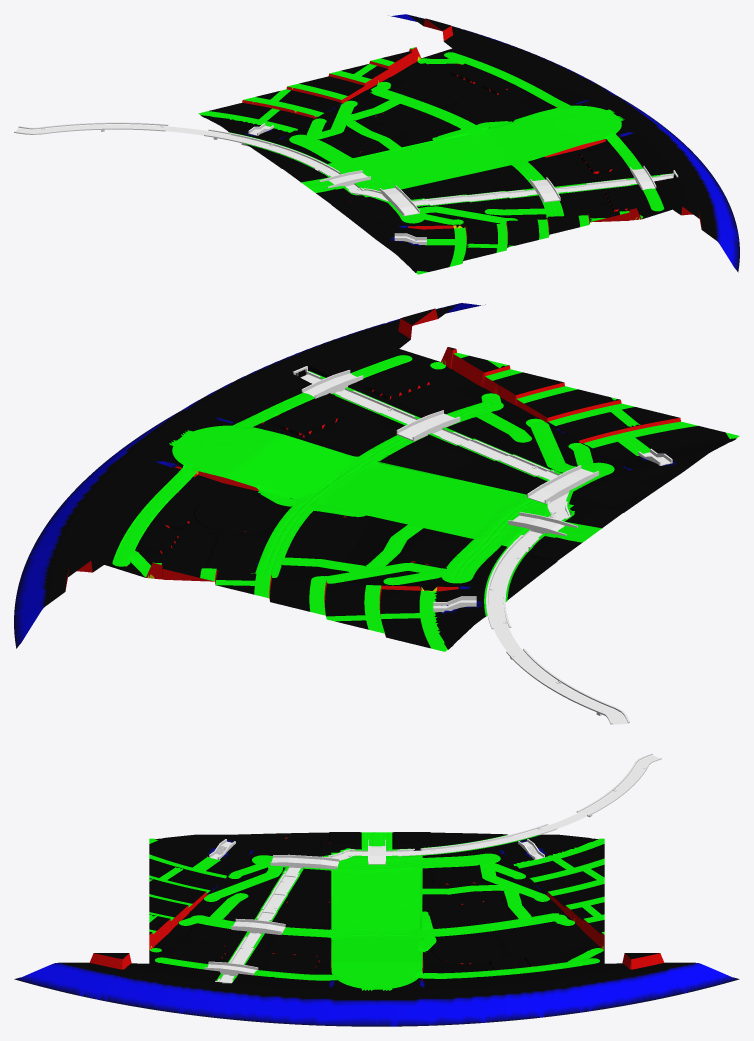
The model's file is concordia_terrain_oficios.glb.
3 views of the same model, one above another, from view 1: azimuth 30°, elevation 25°; view 2: azimuth 150°, elevation 25°; view 3: azimuth 270°, elevation 25° (orthographic). The views are drawn at different scales.
Visible parts, largest first — view 1: TRN_City_Chunk_11_9_LOD0, TRN_City_Chunk_11_8_LOD0, TRN_City_Chunk_10_9_LOD0, TRN_City_Chunk_10_7_LOD0, TRN_City_Chunk_10_8_LOD0, TRN_City_Chunk_11_7_LOD0, TRN_City_Chunk_12_8_LOD0, TRN_City_Chunk_12_7_LOD0, TRN_City_Chunk_12_9_LOD0, CAU_Water, TRN_City_Chunk_12_6_LOD0, CAU_Banks (+3 smaller); view 2: TRN_City_Chunk_11_8_LOD0, TRN_City_Chunk_11_7_LOD0, TRN_City_Chunk_10_9_LOD0, TRN_City_Chunk_11_9_LOD0, TRN_City_Chunk_10_7_LOD0, TRN_City_Chunk_10_8_LOD0, TRN_City_Chunk_12_8_LOD0, TRN_City_Chunk_12_9_LOD0, TRN_City_Chunk_12_7_LOD0, CAU_Water, TRN_City_Chunk_12_10_LOD0, CAU_Banks (+5 smaller); view 3: TRN_City_Chunk_11_9_LOD0, TRN_City_Chunk_11_8_LOD0, TRN_City_Chunk_12_8_LOD0, TRN_City_Chunk_10_9_LOD0, TRN_City_Chunk_10_8_LOD0, TRN_City_Chunk_10_7_LOD0, TRN_City_Chunk_11_7_LOD0, TRN_City_Chunk_12_9_LOD0, TRN_City_Chunk_12_7_LOD0, TRN_City_Chunk_12_6_LOD0, TRN_City_Chunk_12_10_LOD0, CAU_Water (+4 smaller).
Boxes of the visible parts, left/top/right/bottom form: TRN_City_Chunk_11_9_LOD0: left=325, top=47, right=525, bottom=133; TRN_City_Chunk_11_8_LOD0: left=399, top=105, right=598, bottom=188; TRN_City_Chunk_10_9_LOD0: left=198, top=77, right=398, bottom=161; TRN_City_Chunk_10_7_LOD0: left=345, top=188, right=544, bottom=274; TRN_City_Chunk_10_8_LOD0: left=272, top=134, right=471, bottom=215; TRN_City_Chunk_11_7_LOD0: left=472, top=157, right=671, bottom=238; TRN_City_Chunk_12_8_LOD0: left=526, top=84, right=689, bottom=156; TRN_City_Chunk_12_7_LOD0: left=599, top=137, right=731, bottom=209; TRN_City_Chunk_12_9_LOD0: left=452, top=38, right=596, bottom=104; CAU_Water: left=15, top=124, right=672, bottom=205; TRN_City_Chunk_12_6_LOD0: left=673, top=199, right=739, bottom=272; CAU_Banks: left=14, top=122, right=673, bottom=205; TRN_City_Chunk_11_8_LOD0: left=203, top=422, right=470, bottom=535; TRN_City_Chunk_11_7_LOD0: left=301, top=347, right=569, bottom=463; TRN_City_Chunk_10_9_LOD0: left=275, top=536, right=542, bottom=651; TRN_City_Chunk_11_9_LOD0: left=104, top=496, right=372, bottom=602; TRN_City_Chunk_10_7_LOD0: left=471, top=387, right=739, bottom=500; TRN_City_Chunk_10_8_LOD0: left=373, top=463, right=641, bottom=572; TRN_City_Chunk_12_8_LOD0: left=82, top=396, right=300, bottom=496; TRN_City_Chunk_12_9_LOD0: left=25, top=468, right=202, bottom=565; TRN_City_Chunk_12_7_LOD0: left=206, top=335, right=398, bottom=421; CAU_Water: left=300, top=374, right=627, bottom=724; TRN_City_Chunk_12_10_LOD0: left=14, top=551, right=103, bottom=648; CAU_Banks: left=306, top=371, right=629, bottom=724; TRN_City_Chunk_11_9_LOD0: left=453, top=896, right=604, bottom=966; TRN_City_Chunk_11_8_LOD0: left=301, top=900, right=452, bottom=966; TRN_City_Chunk_12_8_LOD0: left=301, top=962, right=452, bottom=1026; TRN_City_Chunk_10_9_LOD0: left=453, top=833, right=604, bottom=901; TRN_City_Chunk_10_8_LOD0: left=301, top=832, right=452, bottom=900; TRN_City_Chunk_10_7_LOD0: left=149, top=833, right=300, bottom=901; TRN_City_Chunk_11_7_LOD0: left=149, top=896, right=300, bottom=966; TRN_City_Chunk_12_9_LOD0: left=453, top=964, right=604, bottom=1024; TRN_City_Chunk_12_7_LOD0: left=149, top=964, right=300, bottom=1024; TRN_City_Chunk_12_6_LOD0: left=14, top=953, right=149, bottom=1008; TRN_City_Chunk_12_10_LOD0: left=604, top=953, right=739, bottom=1008; CAU_Water: left=220, top=755, right=658, bottom=982.
Size of what is drawn, in the model's own units: 200 by 9.5 by 239.
Materials: 11 (10 with a texture image).
